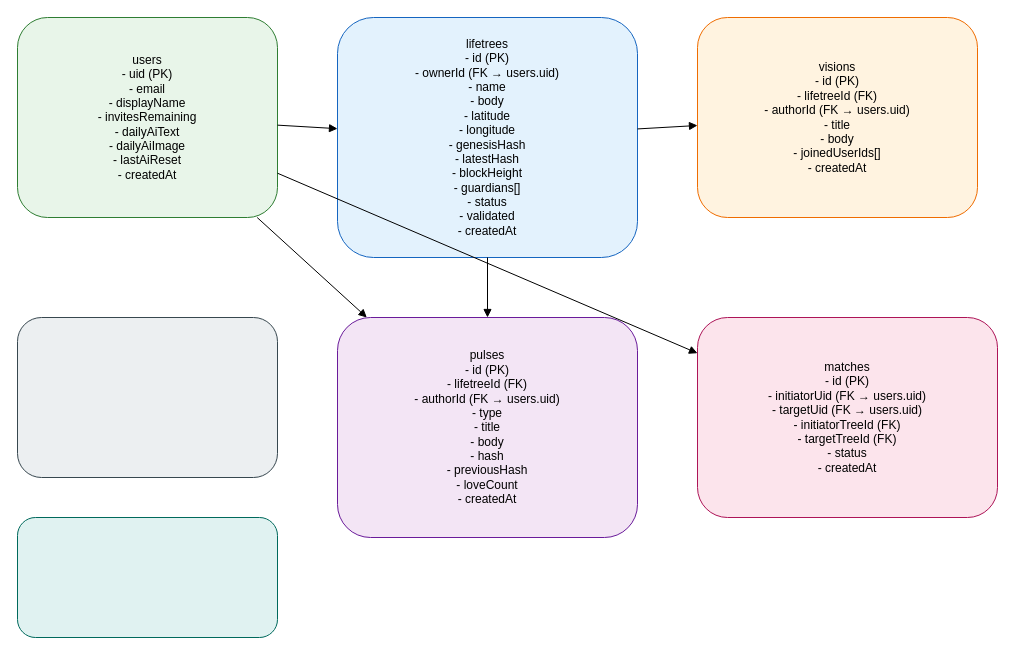
Image size: 1015x655. Some labels were removed from this diagram. Here are the shapes that lost their labels. From the top down, the centre of each, then its label:
(147,397): mail - id (PK) - uid (FK → users.uid) - to[] - message - delivery
(147,577): subscriptions - id (PK) - email - createdAt
